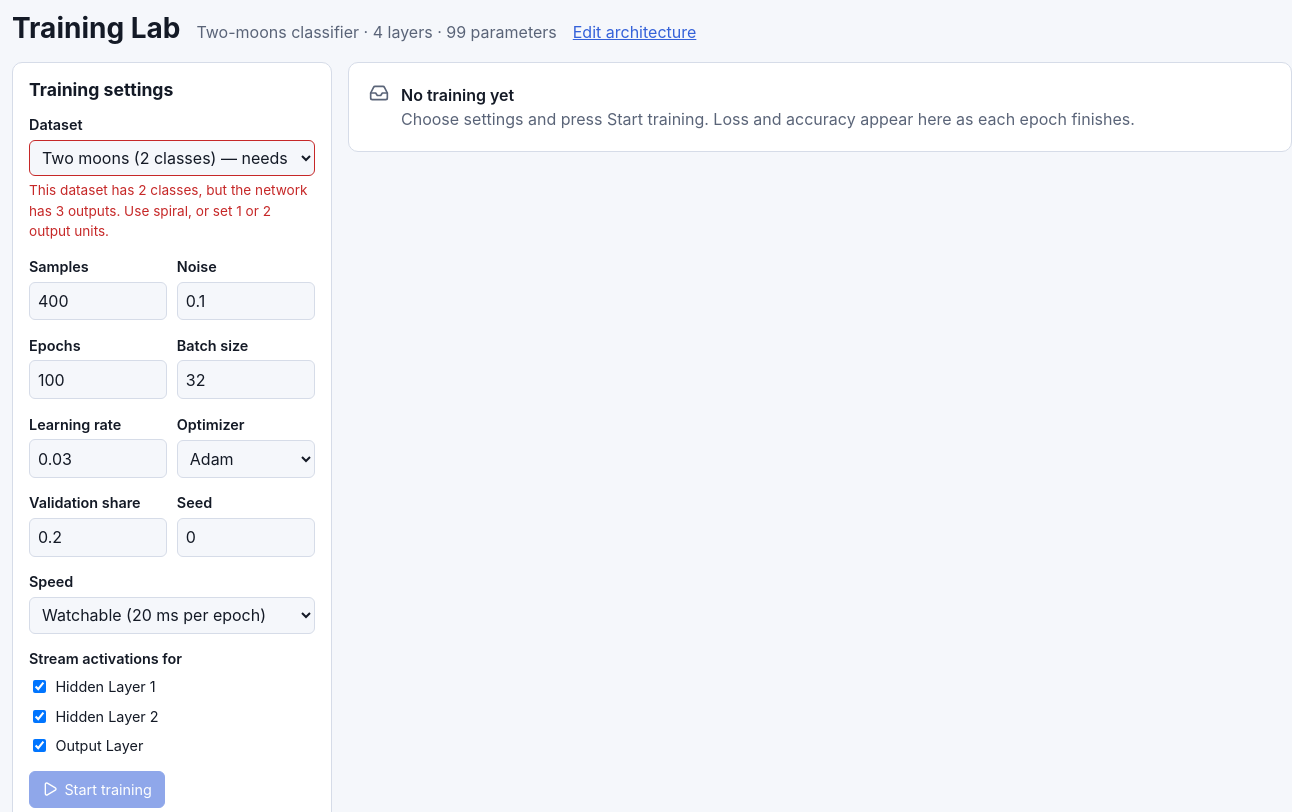
Test: Training Lab › explains datasets that do not fit the output layer
expect the button "Start training" is shown: met, box [29,771,165,808]
expect the text "This dataset has 2 classes, but the network has 3 outputs" is shown: met, box [29,182,308,239]
Select "Spiral (one arm per output)" in the dropdown labelled "Dataset" at [172, 158], box [29,140,315,176]
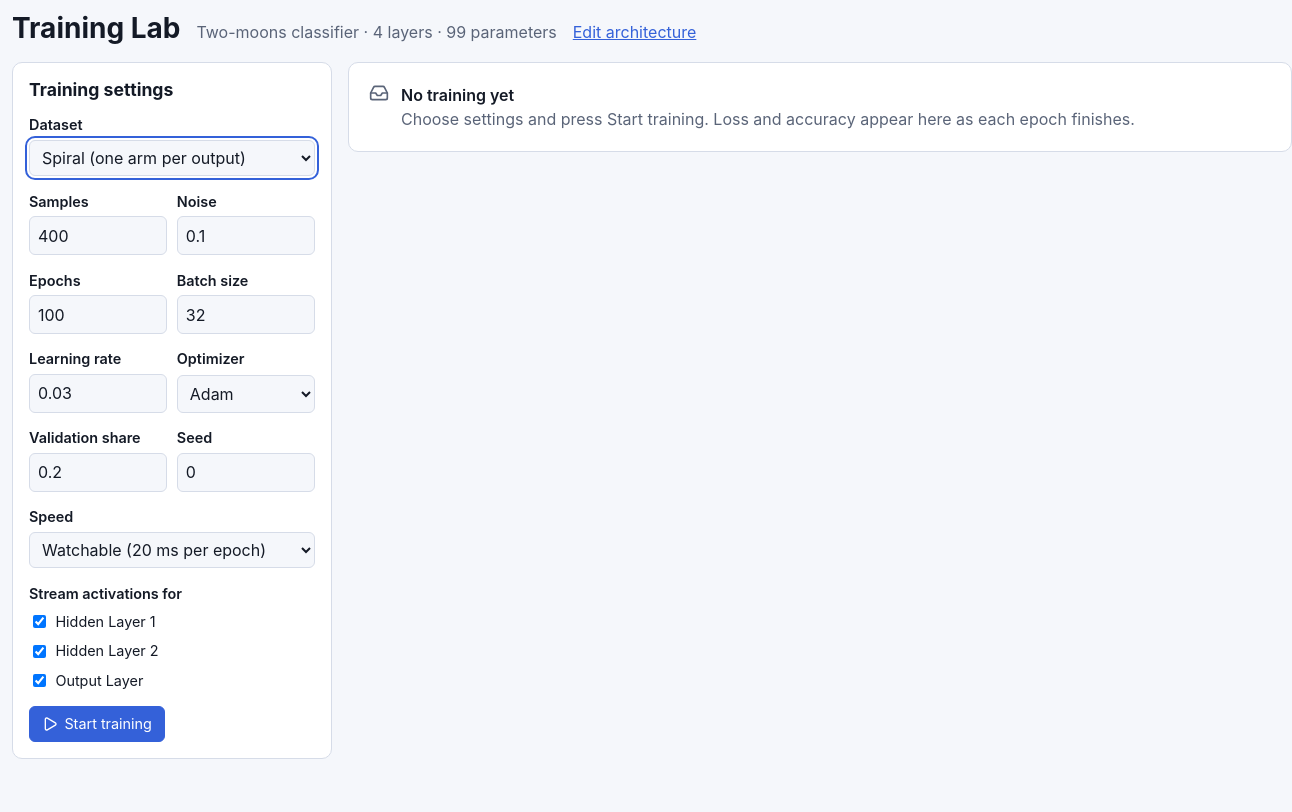
expect the button "Start training" is enabled: met, box [29,706,165,742]
